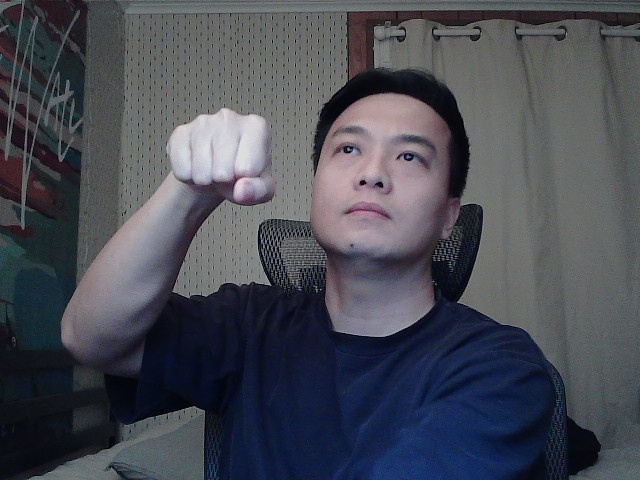Yes: (150, 99, 297, 214)
